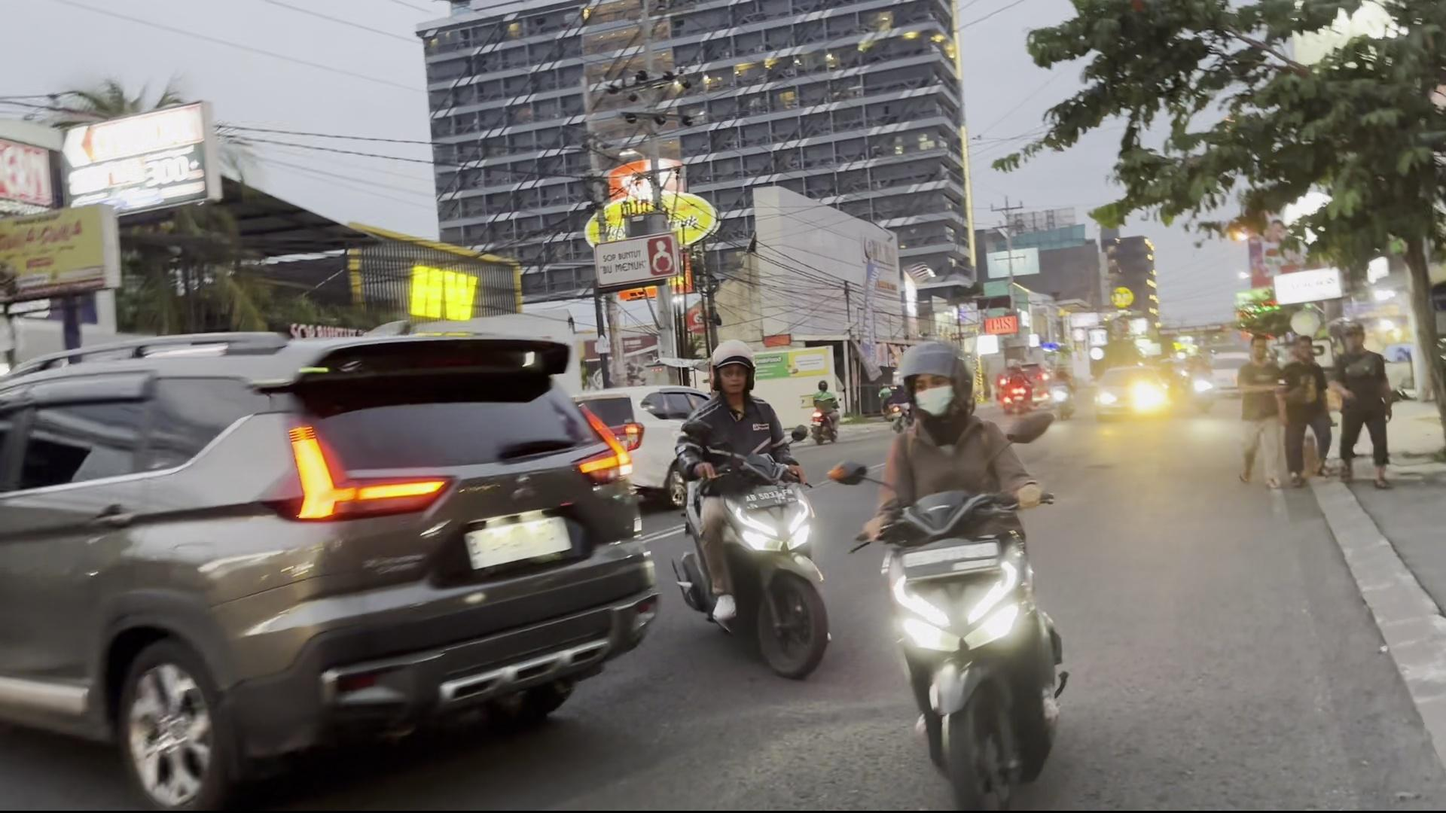helm: (891, 339, 981, 433), (705, 339, 761, 396)
riding: (828, 334, 1078, 813), (664, 334, 835, 688)
